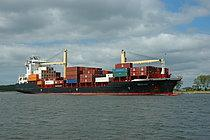Ship: (12, 48, 194, 105)
